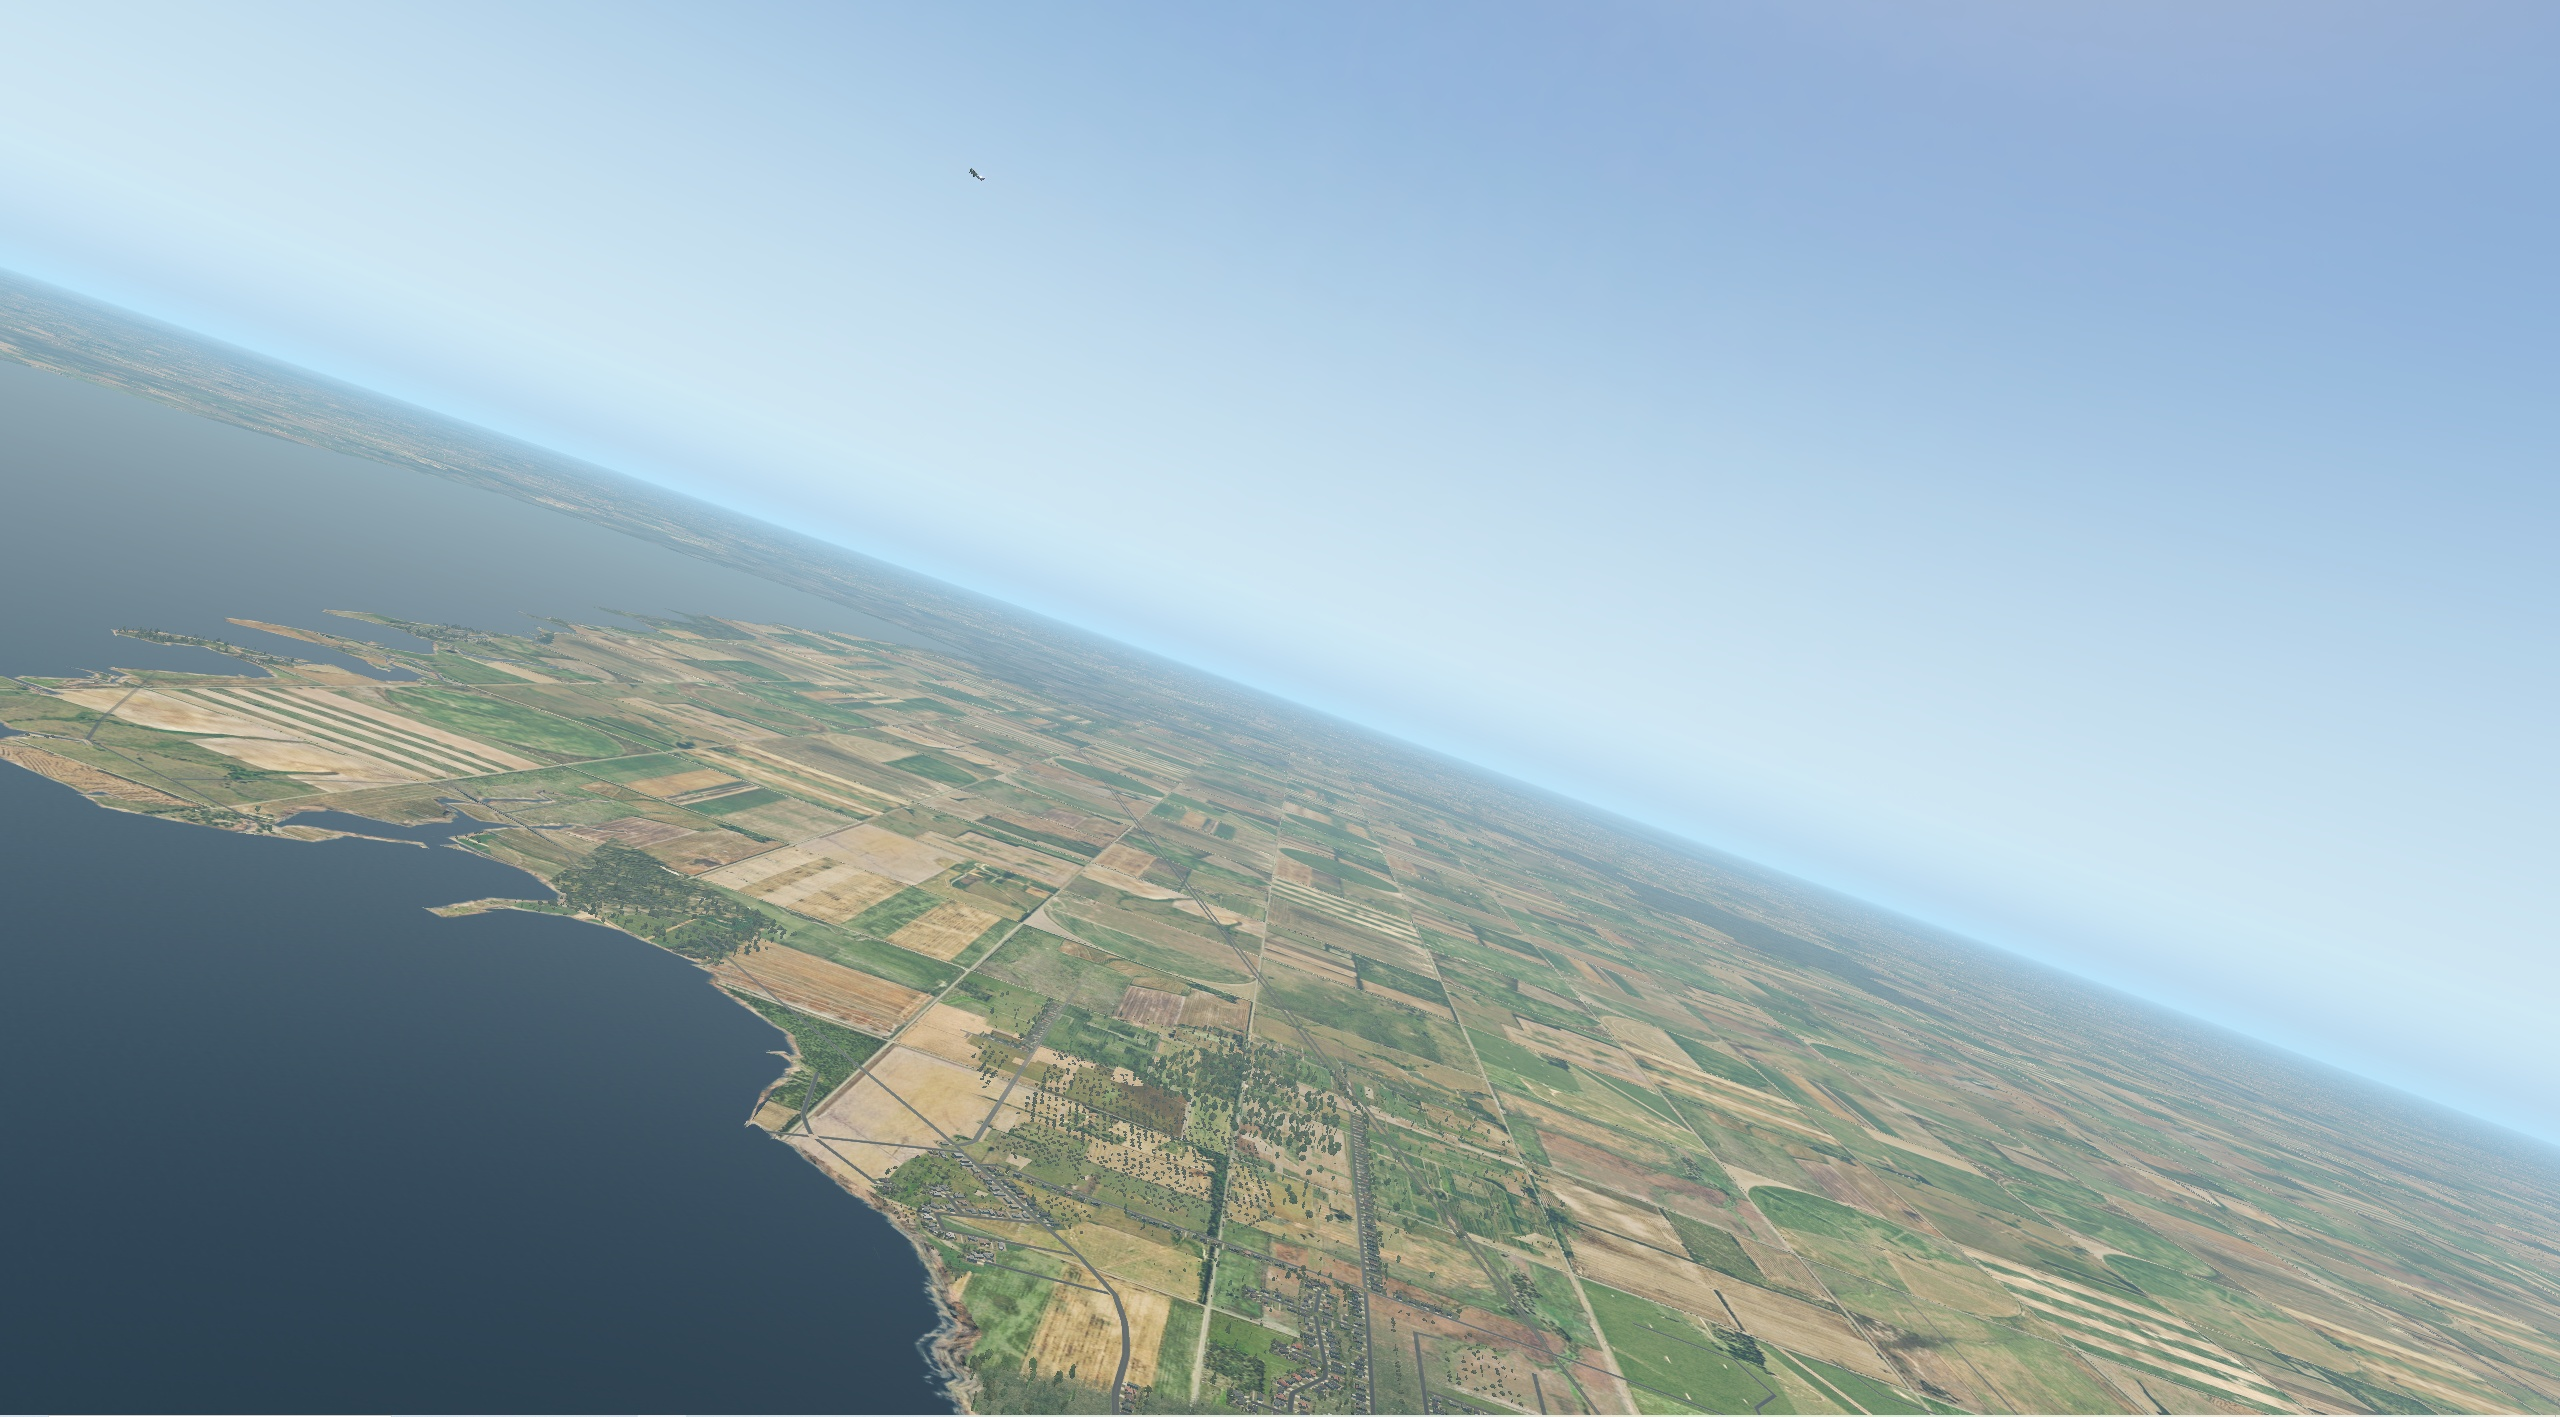aircraft: (958, 168, 989, 178)
